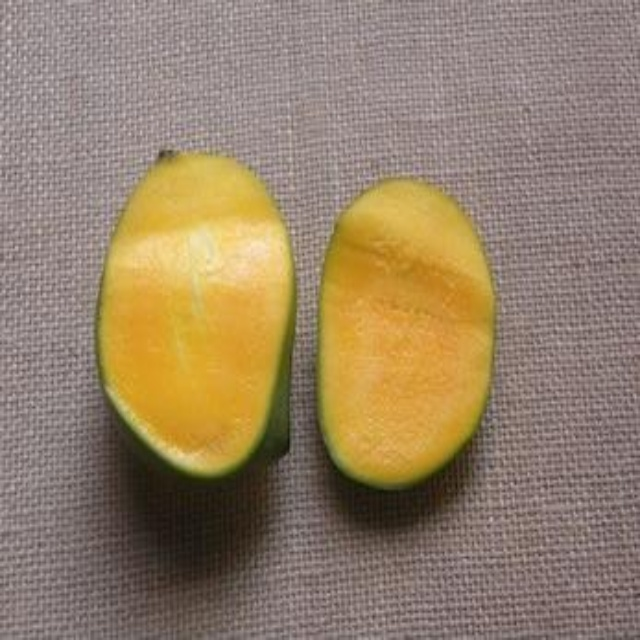mango: (99, 146, 292, 478), (317, 177, 496, 488)
